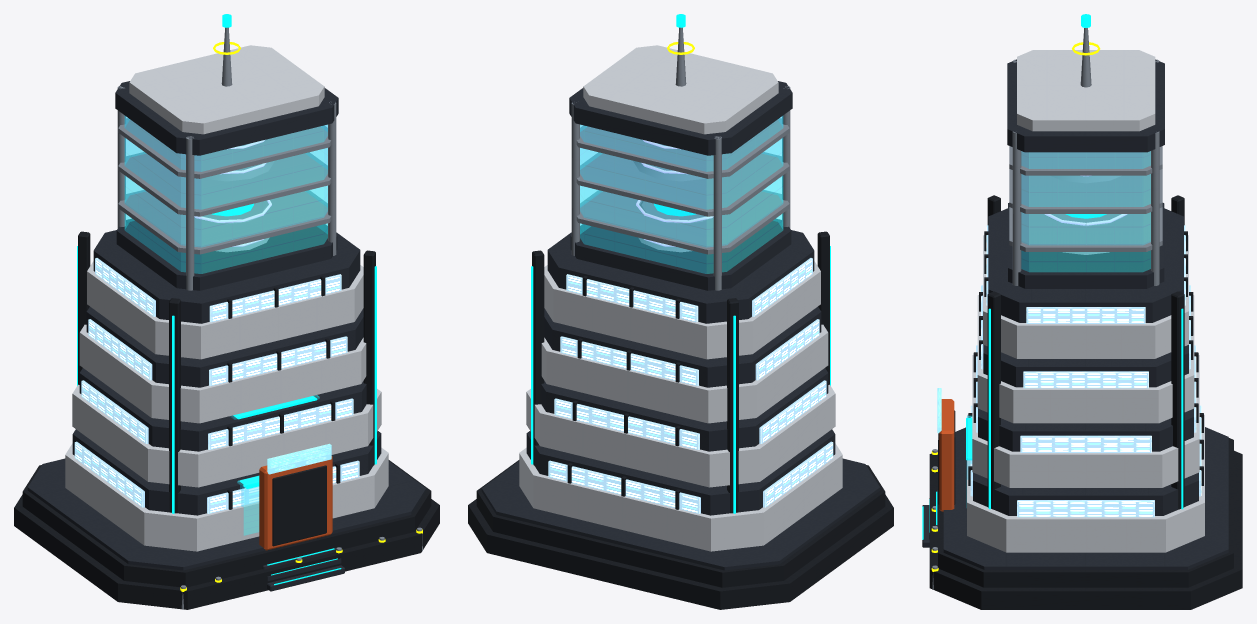
Rendered from bldg_09_r1_01.glb.
3 renders of one model, left to right at view 1: azimuth 30°, elevation 25°; view 2: azimuth 150°, elevation 25°; view 3: azimuth 270°, elevation 25°, orthographic.
Visible parts, largest first — view 1: Bldg09_C01_aero_white, Bldg09_C01_carbon_slate, Bldg09_C01_gunmetal, Bldg09_C01_steel_machined, Bldg09_C01_glass_cyan, Bldg09_C01_window_lit, Bldg09_C01_led_cyan, Bldg09_C01_accent_orange, Bldg09_C01_marquee, Bldg09_C01_led_uv; view 2: Bldg09_C01_aero_white, Bldg09_C01_carbon_slate, Bldg09_C01_gunmetal, Bldg09_C01_steel_machined, Bldg09_C01_glass_cyan, Bldg09_C01_window_lit, Bldg09_C01_led_cyan, Bldg09_C01_led_uv; view 3: Bldg09_C01_aero_white, Bldg09_C01_carbon_slate, Bldg09_C01_gunmetal, Bldg09_C01_steel_machined, Bldg09_C01_glass_cyan, Bldg09_C01_window_lit, Bldg09_C01_led_cyan, Bldg09_C01_accent_orange.
Part boxes in pixels (bbox=[...]): Bldg09_C01_aero_white: bbox=[65, 45, 388, 551]; Bldg09_C01_carbon_slate: bbox=[27, 81, 426, 591]; Bldg09_C01_gunmetal: bbox=[14, 231, 439, 609]; Bldg09_C01_steel_machined: bbox=[117, 27, 422, 609]; Bldg09_C01_glass_cyan: bbox=[124, 116, 327, 535]; Bldg09_C01_window_lit: bbox=[74, 258, 359, 513]; Bldg09_C01_led_cyan: bbox=[77, 14, 376, 585]; Bldg09_C01_accent_orange: bbox=[259, 456, 332, 550]; Bldg09_C01_marquee: bbox=[267, 443, 331, 474]; Bldg09_C01_led_uv: bbox=[194, 140, 271, 246]; Bldg09_C01_aero_white: bbox=[519, 45, 842, 551]; Bldg09_C01_carbon_slate: bbox=[481, 81, 880, 570]; Bldg09_C01_gunmetal: bbox=[468, 231, 893, 609]; Bldg09_C01_steel_machined: bbox=[571, 27, 790, 290]; Bldg09_C01_glass_cyan: bbox=[580, 116, 783, 273]; Bldg09_C01_window_lit: bbox=[548, 258, 833, 513]; Bldg09_C01_led_cyan: bbox=[531, 14, 830, 513]; Bldg09_C01_led_uv: bbox=[636, 140, 713, 246]; Bldg09_C01_aero_white: bbox=[967, 50, 1204, 552]; Bldg09_C01_carbon_slate: bbox=[922, 59, 1228, 569]; Bldg09_C01_gunmetal: bbox=[929, 195, 1242, 609]; Bldg09_C01_steel_machined: bbox=[932, 28, 1162, 589]; Bldg09_C01_glass_cyan: bbox=[966, 151, 1150, 507]; Bldg09_C01_window_lit: bbox=[970, 225, 1201, 517]; Bldg09_C01_led_cyan: bbox=[922, 14, 1183, 539]; Bldg09_C01_accent_orange: bbox=[939, 399, 954, 511].
Bounding box in the file's own units: 12 × 18.12 × 10.23.
Materials: 11 (11 with a texture image).
